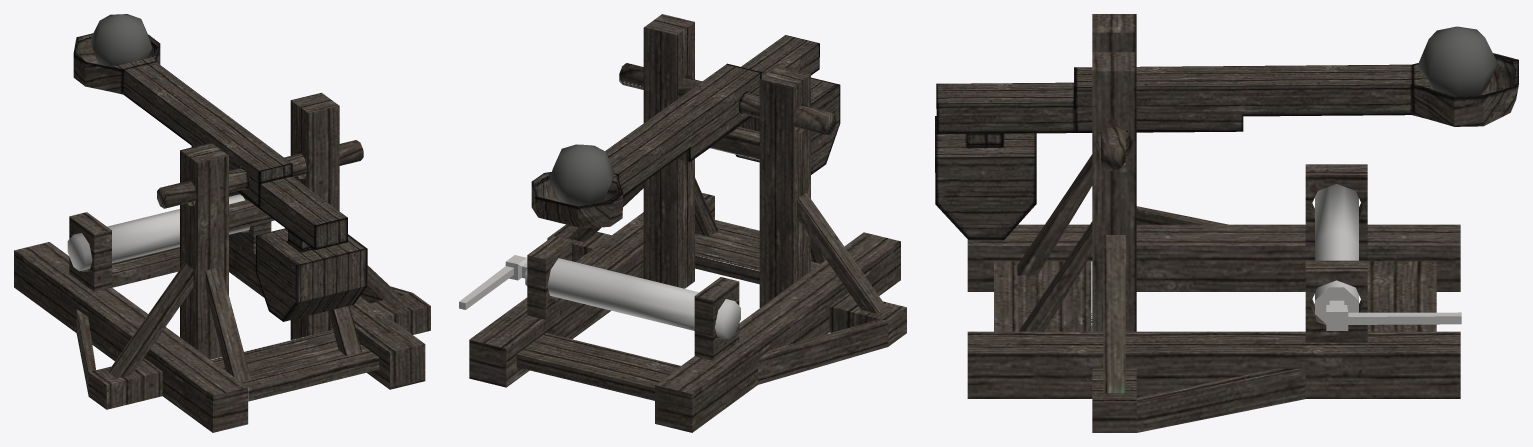
The model's file is trebuchet-b.lod0.glb.
The picture shows the model from 3 angles, left to right: view 1: azimuth 30°, elevation 25°; view 2: azimuth 150°, elevation 25°; view 3: azimuth 270°, elevation 25°; orthographic projection. The views are drawn at different scales.
Visible parts, largest first — view 1: TrebuchetBase_PlatformMaterial_0, TrebuchetSwingArm_SwingArmMaterial_0, TrebuchetRealeaseMech_ReleaseMechMaterial_0; view 2: TrebuchetBase_PlatformMaterial_0, TrebuchetSwingArm_SwingArmMaterial_0, TrebuchetRealeaseMech_ReleaseMechMaterial_0; view 3: TrebuchetBase_PlatformMaterial_0, TrebuchetSwingArm_SwingArmMaterial_0, TrebuchetRealeaseMech_ReleaseMechMaterial_0.
Boxes of the visible parts, box(x1,y1,x2,y2) form: TrebuchetBase_PlatformMaterial_0: box(14, 92, 430, 432); TrebuchetSwingArm_SwingArmMaterial_0: box(73, 33, 367, 321); TrebuchetRealeaseMech_ReleaseMechMaterial_0: box(67, 14, 250, 271); TrebuchetBase_PlatformMaterial_0: box(469, 14, 906, 432); TrebuchetSwingArm_SwingArmMaterial_0: box(531, 35, 840, 227); TrebuchetRealeaseMech_ReleaseMechMaterial_0: box(459, 144, 740, 339); TrebuchetBase_PlatformMaterial_0: box(967, 14, 1460, 432); TrebuchetSwingArm_SwingArmMaterial_0: box(935, 53, 1518, 240); TrebuchetRealeaseMech_ReleaseMechMaterial_0: box(1315, 26, 1497, 330).
Size of the model in its own units: 12.35 by 9 by 15.52.
3 materials, 2 textured.
